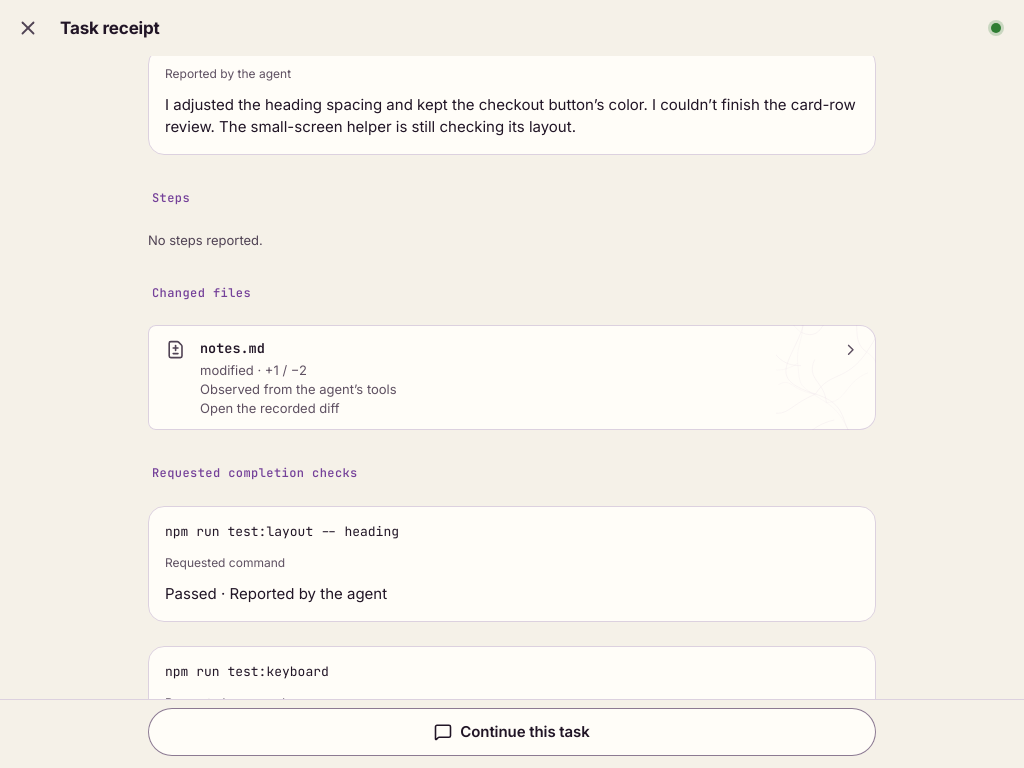
Test: shows a reported diff as wrapped, signed and coloured lines with changed words marked
(page scrolled)
What coordinates should you click on to do the following:
click the button that starts with "notes.md"
I would click on:
 (232, 348)
Its box is [148, 325, 876, 430].
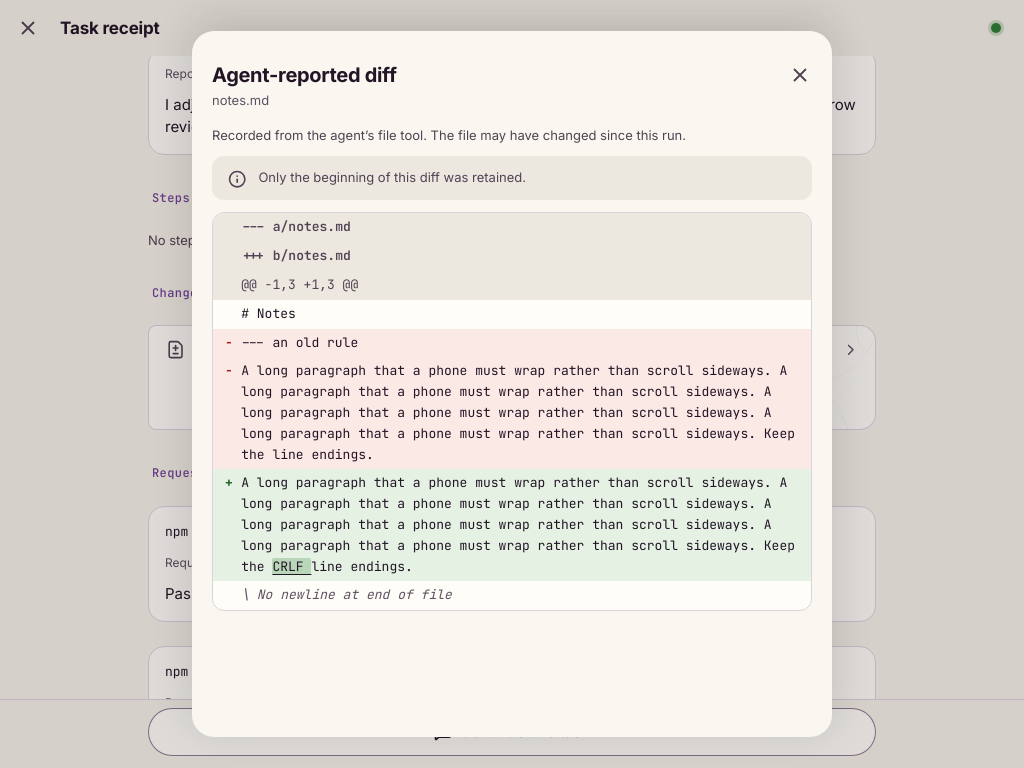
Result: the text "Only the beginning of this diff was retained." is shown at [258, 169, 526, 185]
